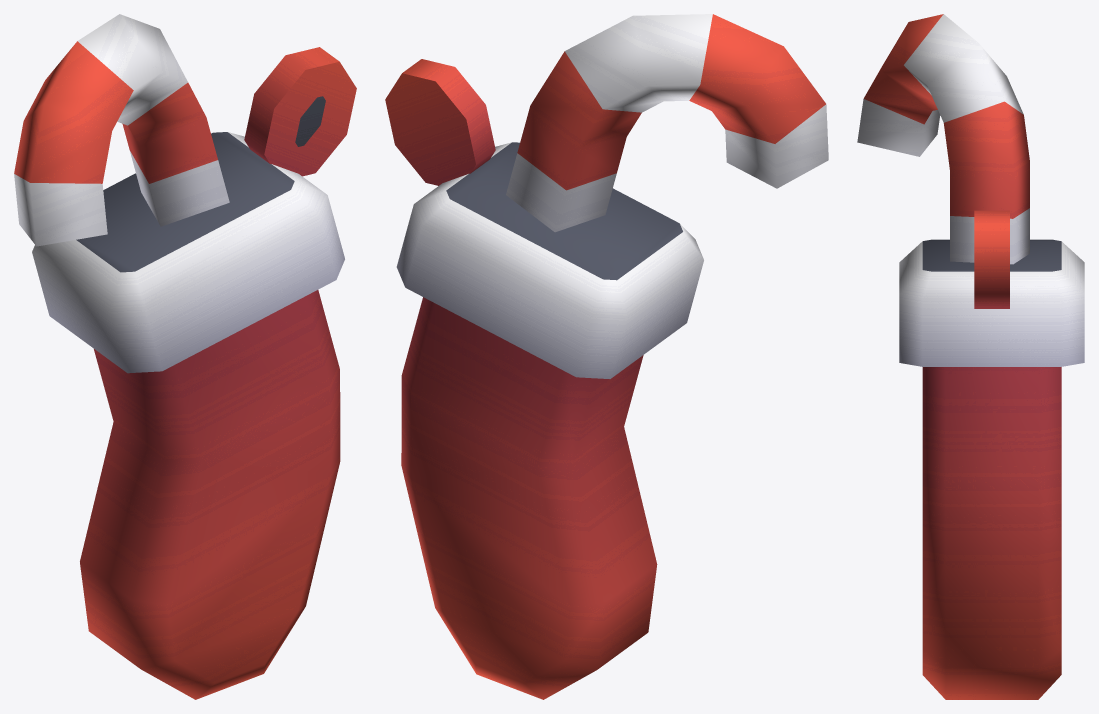
The model's file is sock-red-cane.glb.
The picture shows the model from 3 angles, left to right: view 1: azimuth 30°, elevation 25°; view 2: azimuth 150°, elevation 25°; view 3: azimuth 270°, elevation 25°; orthographic projection. The views are drawn at different scales.
Visible parts, largest first — view 1: sock-red-cane; view 2: sock-red-cane; view 3: sock-red-cane.
Part boxes in pixels (left/top/right/bottom): sock-red-cane: left=14, top=14, right=356, bottom=699; sock-red-cane: left=385, top=14, right=828, bottom=699; sock-red-cane: left=857, top=14, right=1084, bottom=699.
Size of the model in its own units: 1.26 by 2.19 by 0.7364.
Materials: 1 (1 with a texture image).
